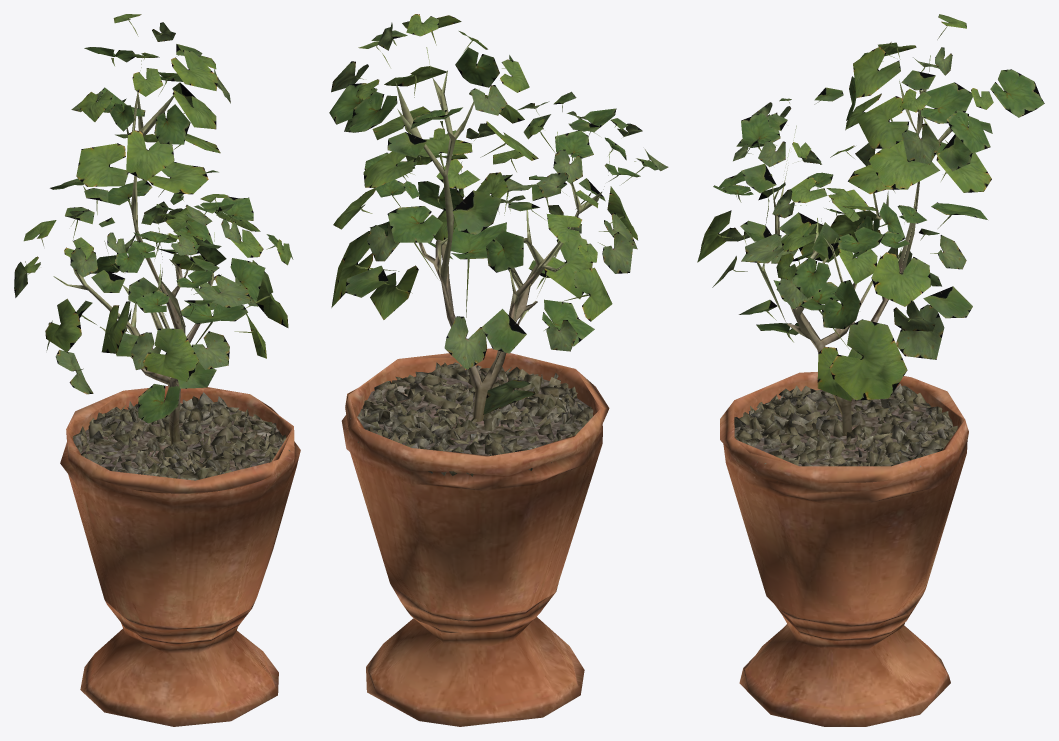
Rendered from plant_tall.glb.
3 renders of one model, left to right at view 1: azimuth 30°, elevation 25°; view 2: azimuth 150°, elevation 25°; view 3: azimuth 270°, elevation 25°, orthographic. The views are drawn at different scales.
Visible parts, largest first — view 1: potted_plant_01_pot, potted_plant_01_leaves, potted_plant_01_pebbles, potted_plant_01_stem; view 2: potted_plant_01_pot, potted_plant_01_leaves, potted_plant_01_pebbles, potted_plant_01_stem; view 3: potted_plant_01_pot, potted_plant_01_leaves, potted_plant_01_pebbles, potted_plant_01_stem.
Boxes of the visible parts, left/top/right/bottom form: potted_plant_01_pot: left=60, top=386, right=300, bottom=726; potted_plant_01_leaves: left=14, top=14, right=293, bottom=423; potted_plant_01_pebbles: left=73, top=392, right=290, bottom=480; potted_plant_01_stem: left=53, top=53, right=221, bottom=444; potted_plant_01_pot: left=341, top=348, right=609, bottom=726; potted_plant_01_leaves: left=329, top=14, right=668, bottom=414; potted_plant_01_pebbles: left=350, top=362, right=593, bottom=476; potted_plant_01_stem: left=395, top=47, right=610, bottom=421; potted_plant_01_pot: left=720, top=372, right=968, bottom=726; potted_plant_01_leaves: left=697, top=14, right=1044, bottom=401; potted_plant_01_pebbles: left=734, top=383, right=957, bottom=481; potted_plant_01_stem: left=757, top=55, right=963, bottom=435.
Bounding box in the file's own units: 0.5846 × 1.33 × 0.6336.
Materials: 2 (2 with a texture image).
